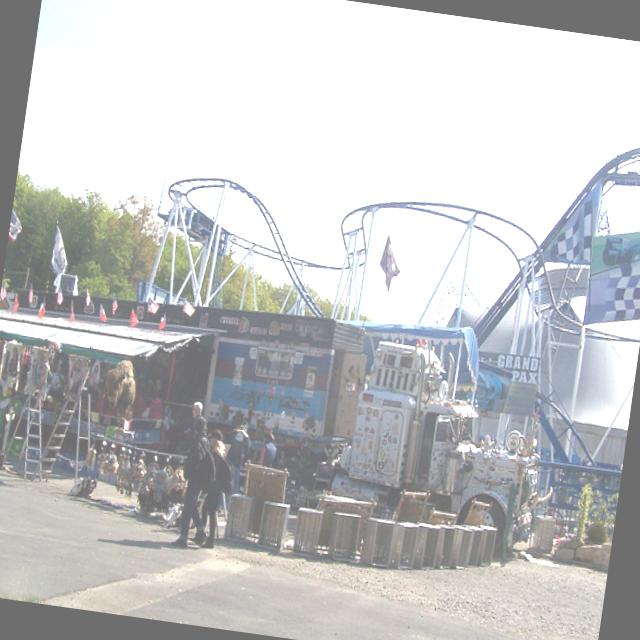Vehicle: (0, 270, 560, 555)
